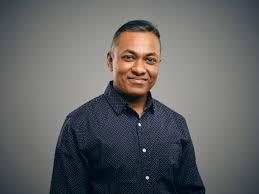person: (106, 16, 164, 97)
